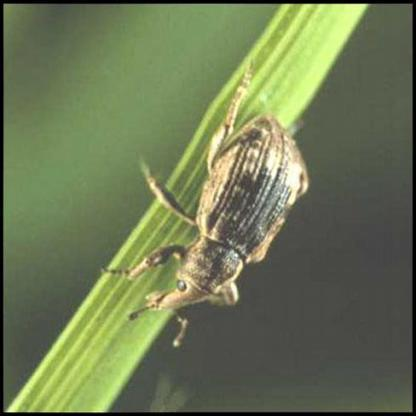rice-bug: (127, 78, 314, 334)
